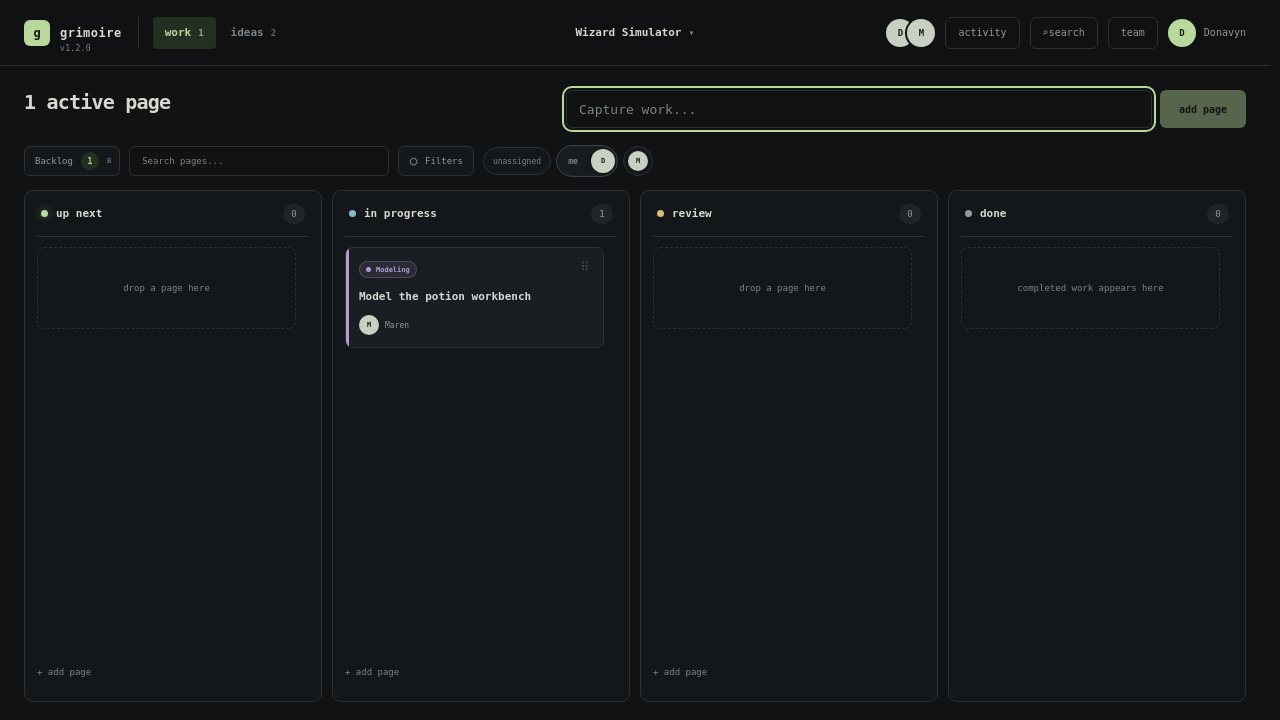
searching the whole project › restores an archived page and shows where it landed
Check: the button with aria-label "open backlog" is shown, box [24,146,120,176]
Type keys "/"
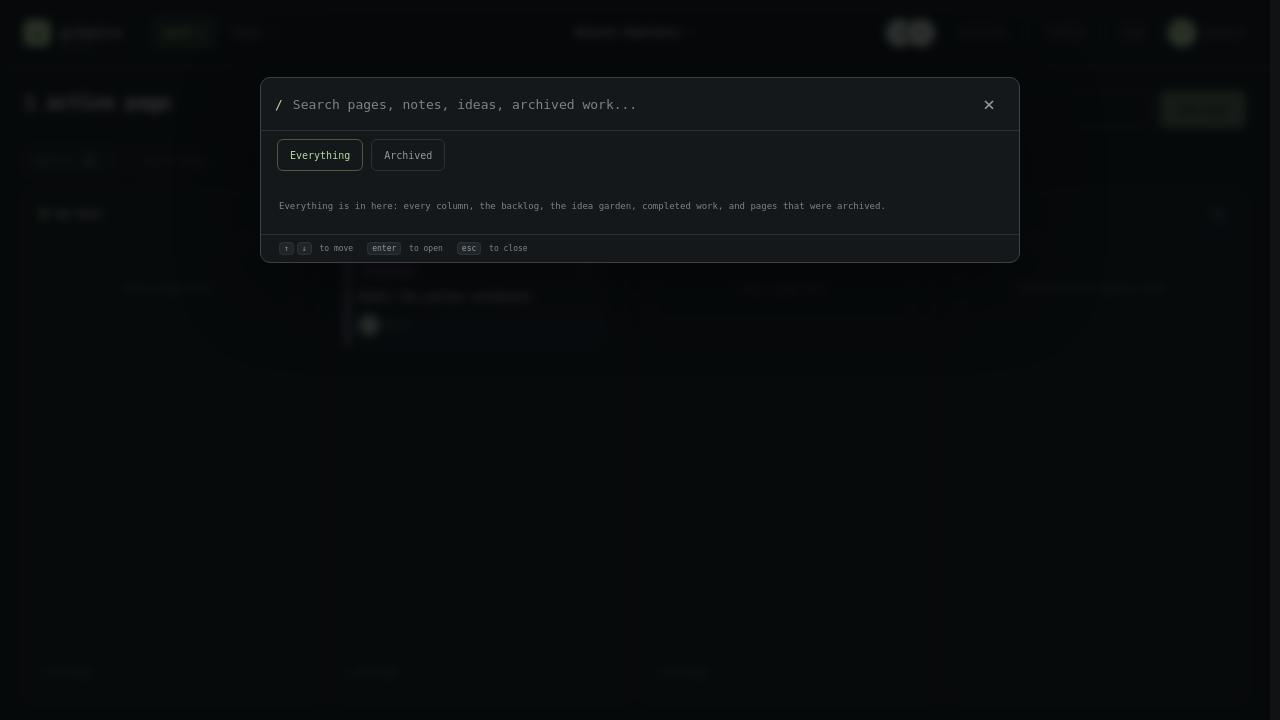
Type "door" into the search field at (628, 104), box [293,78,963,130]
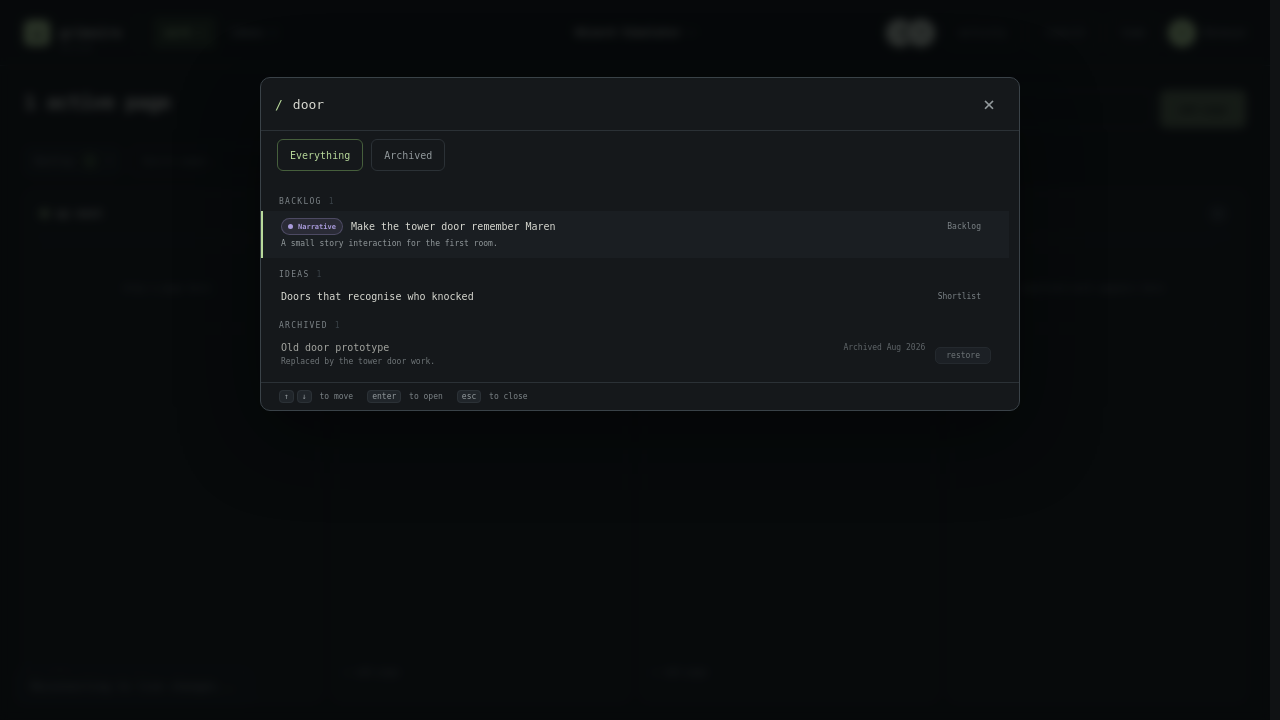
Click the button with aria-label "Restore Old door prototype" at (963, 355), box [935,347,991,364]
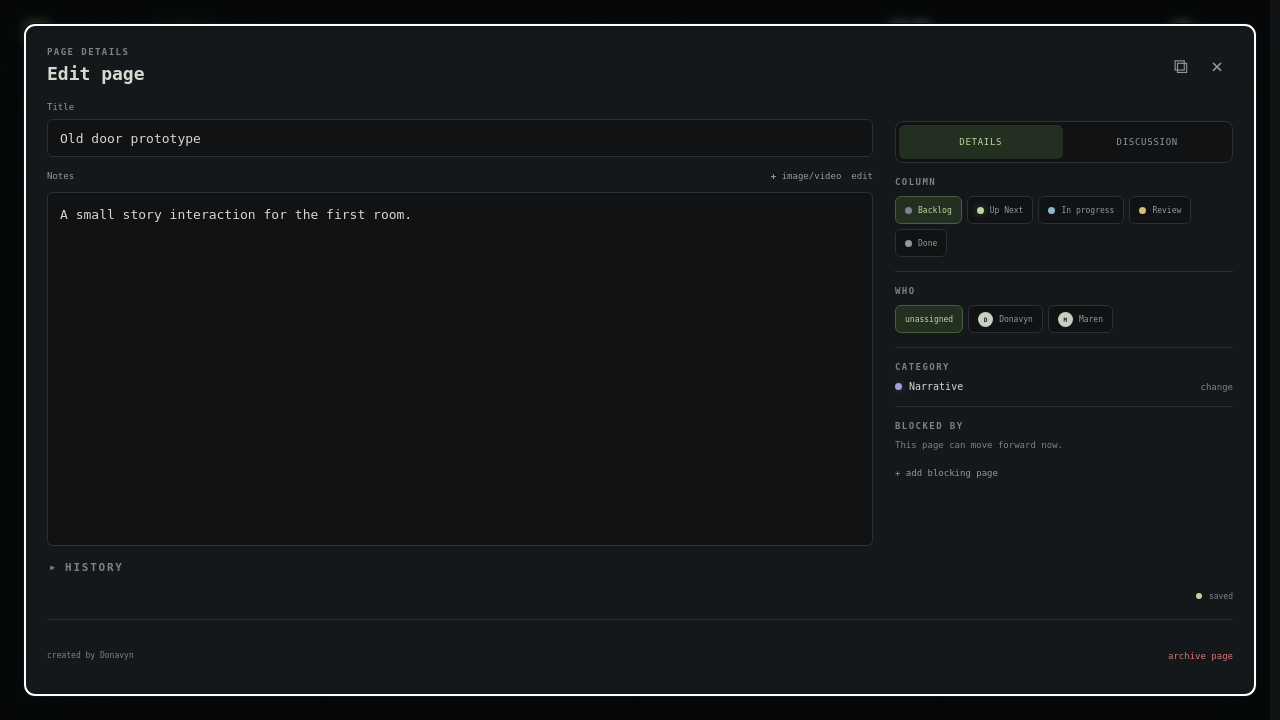
Check: the field labelled "Title" holds "Old door prototype", box [47,119,873,157]
